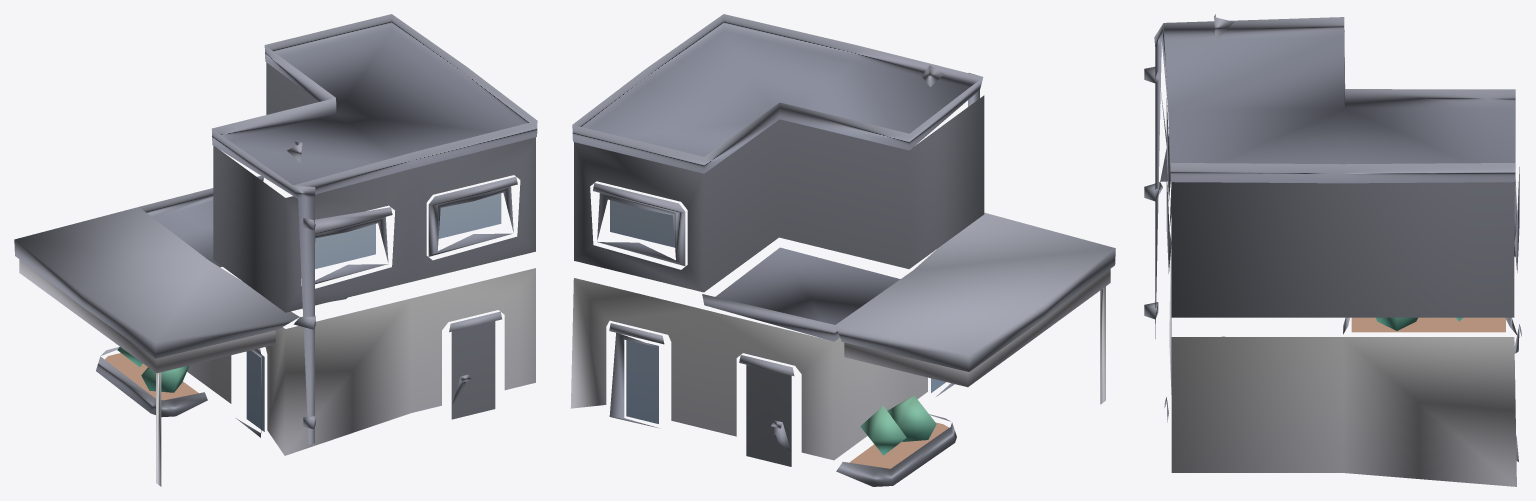
The picture shows the model from 3 angles, left to right: view 1: azimuth 30°, elevation 25°; view 2: azimuth 150°, elevation 25°; view 3: azimuth 270°, elevation 25°; orthographic projection. The views are drawn at different scales.
Size of the model in its own units: 9.89 by 7.23 by 7.04.
